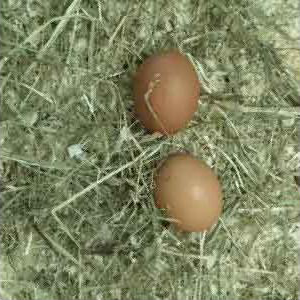egg: (154, 154, 223, 232), (134, 53, 199, 133)
